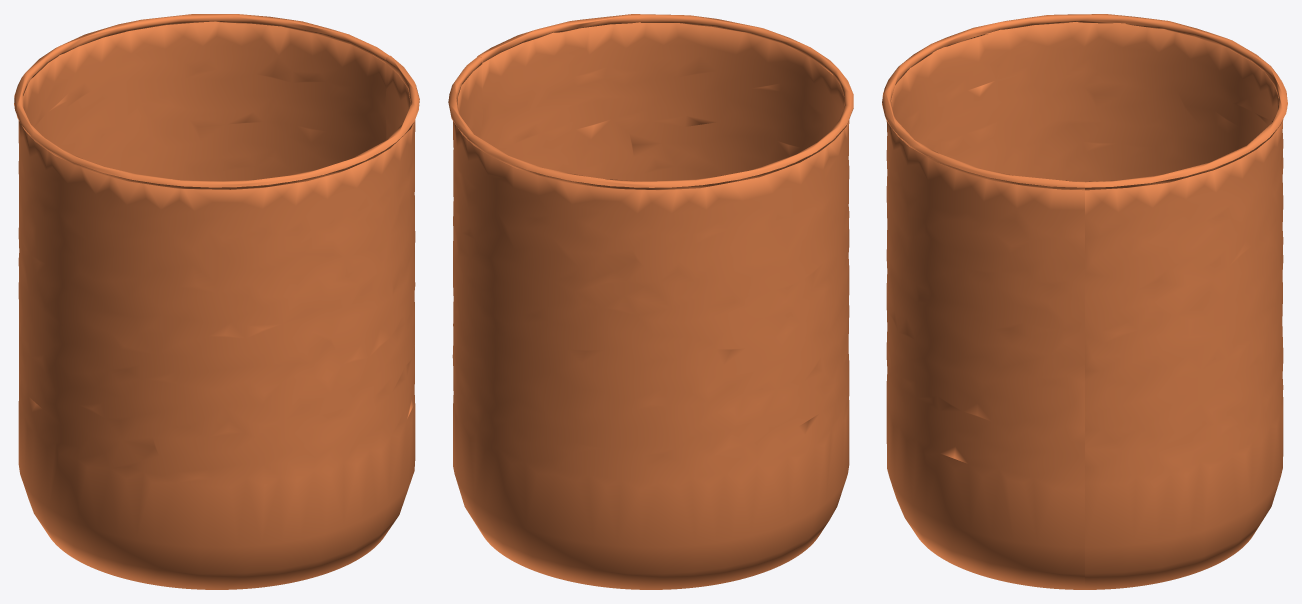
The picture shows the model from 3 angles, left to right: view 1: azimuth 30°, elevation 25°; view 2: azimuth 150°, elevation 25°; view 3: azimuth 270°, elevation 25°; orthographic projection.
Parts seen in each view (by area): view 1: vessel; view 2: vessel; view 3: vessel.
Part boxes in pixels (box(x1,y1,x2,y2)): vessel: box(14, 14, 419, 589); vessel: box(448, 14, 853, 589); vessel: box(882, 14, 1287, 589).
Bounding box in the file's own units: 0.0856 × 0.0974 × 0.0856.
